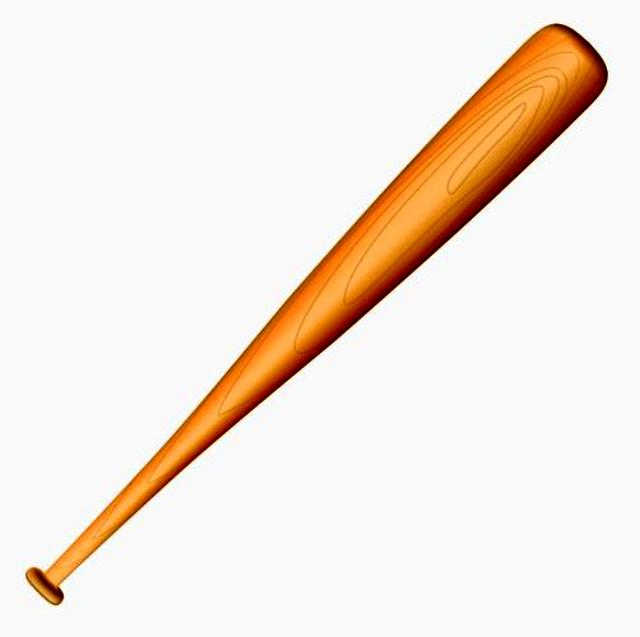baseball bat: (7, 17, 633, 622)
